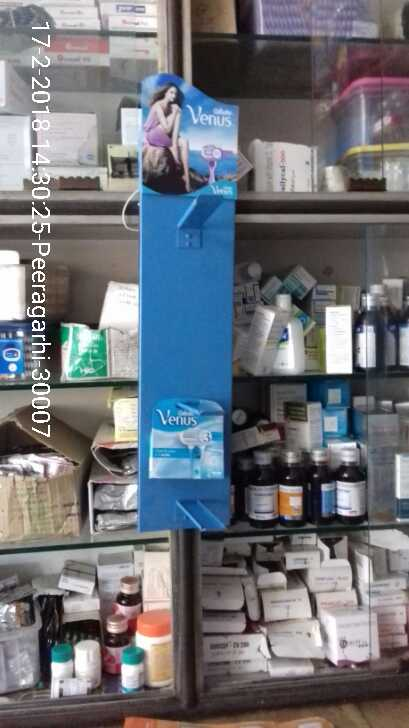venus: (136, 394, 227, 488)
